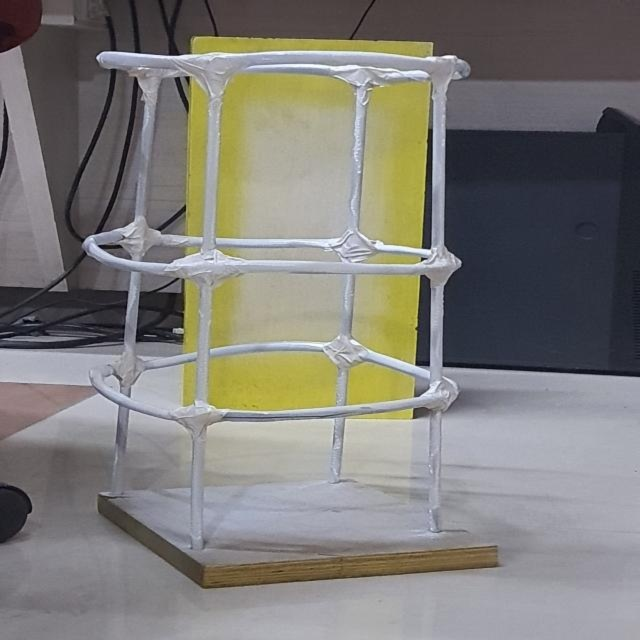silo: (90, 35, 498, 563)
